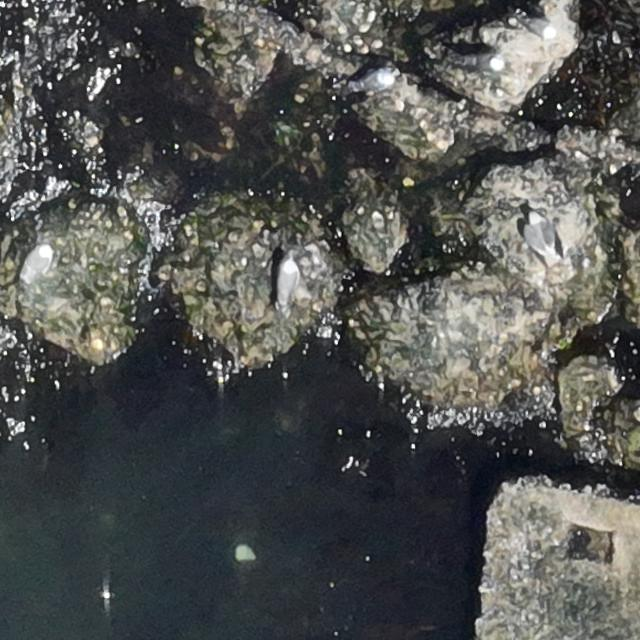umineko: (528, 211, 562, 263), (17, 243, 54, 285), (510, 10, 559, 38), (356, 72, 394, 95), (276, 259, 295, 300), (473, 54, 501, 70)
